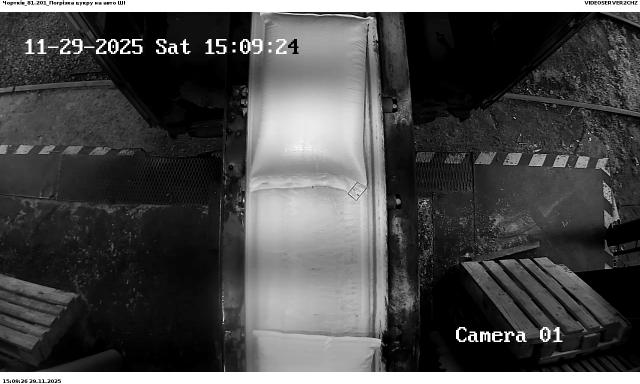bag: (250, 12, 374, 200), (252, 330, 381, 373)
